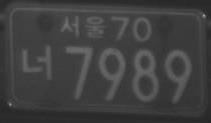0: (131, 15, 152, 42)
7: (63, 43, 94, 100), (108, 14, 131, 42)
8: (130, 47, 160, 103)
9: (162, 47, 193, 105), (96, 45, 127, 102)
너: (19, 43, 53, 81)
서울_O: (59, 13, 108, 40)
